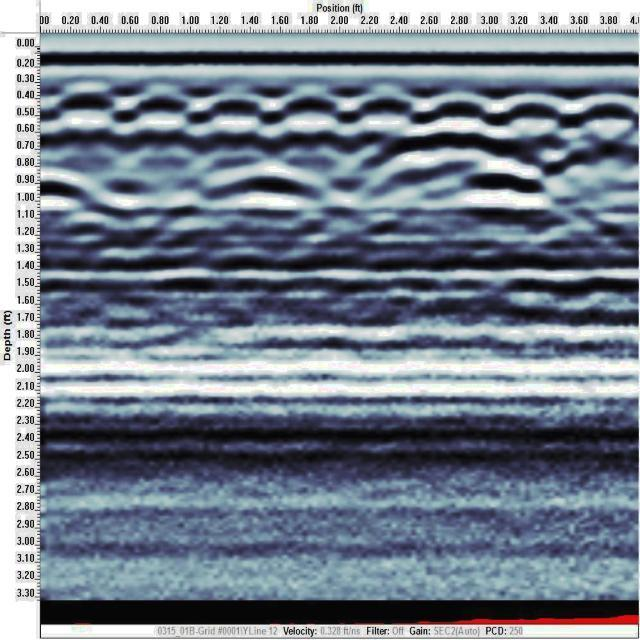hyperbola: (372, 121, 556, 230), (190, 148, 339, 226), (49, 70, 133, 146), (272, 80, 344, 146), (416, 78, 503, 130), (133, 84, 201, 148), (557, 94, 640, 141), (350, 84, 425, 136), (198, 84, 262, 144), (492, 89, 571, 136)
